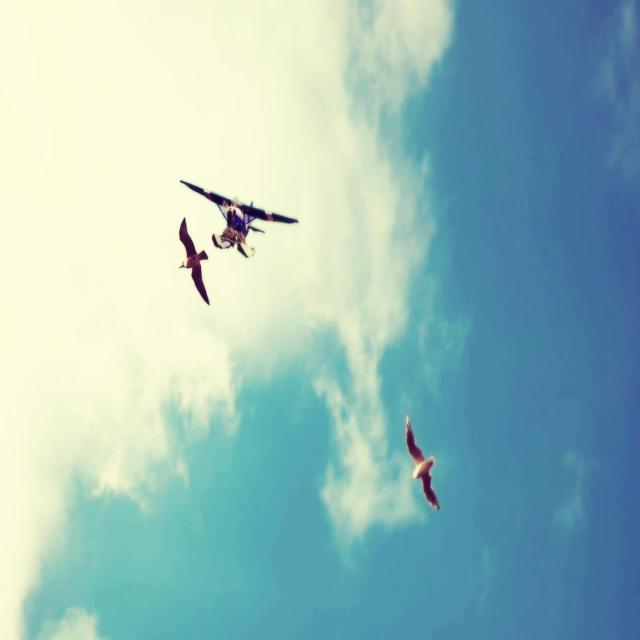airplane: (179, 178, 299, 258)
